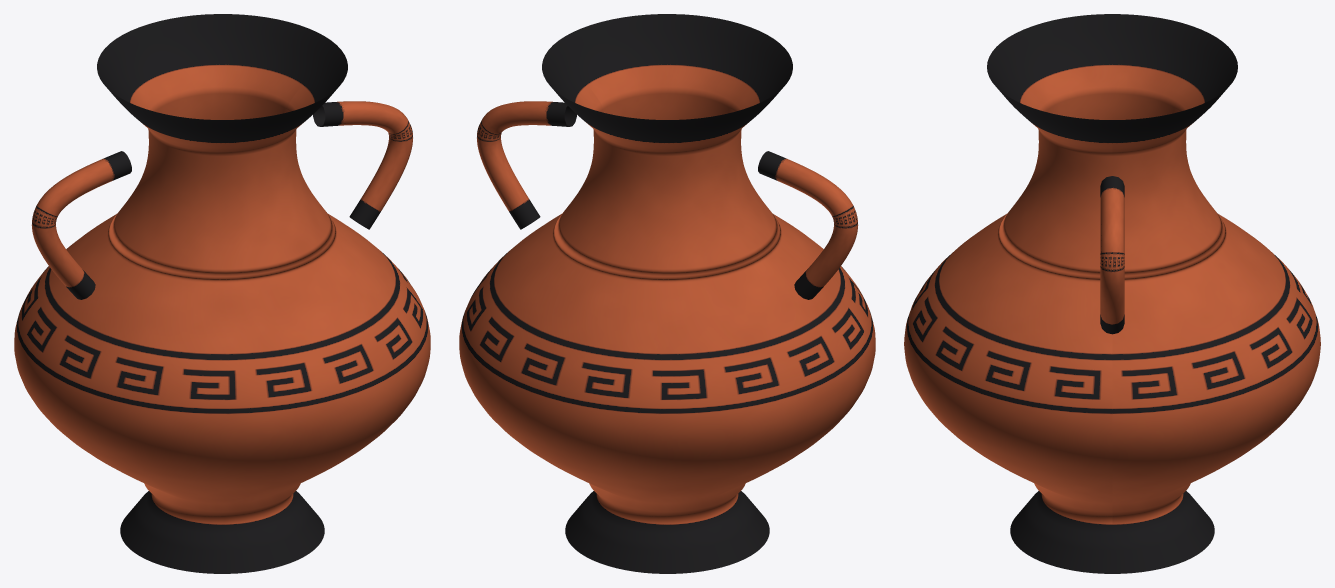
The model's file is ancient_pottery.glb.
The picture shows the model from 3 angles, left to right: view 1: azimuth 30°, elevation 25°; view 2: azimuth 150°, elevation 25°; view 3: azimuth 270°, elevation 25°; orthographic projection.
Visible parts, largest first — view 1: Attic Pottery; view 2: Attic Pottery; view 3: Attic Pottery.
Part boxes in pixels (x1,y1,x2,y2): Attic Pottery: (14,14,430,573); Attic Pottery: (459,14,875,573); Attic Pottery: (904,14,1320,573).
Size of the model in its own units: 0.5547 by 0.65 by 0.5295.
1 material, 1 textured.
